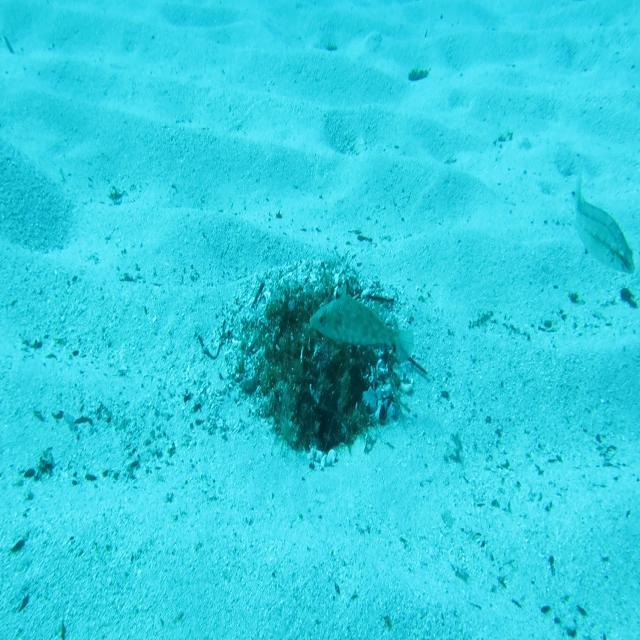BN: (308, 283, 415, 368)
core_nest: (290, 305, 330, 339)
female: (568, 170, 636, 279)
nest: (212, 244, 424, 485)
vegetation: (409, 64, 429, 85)
